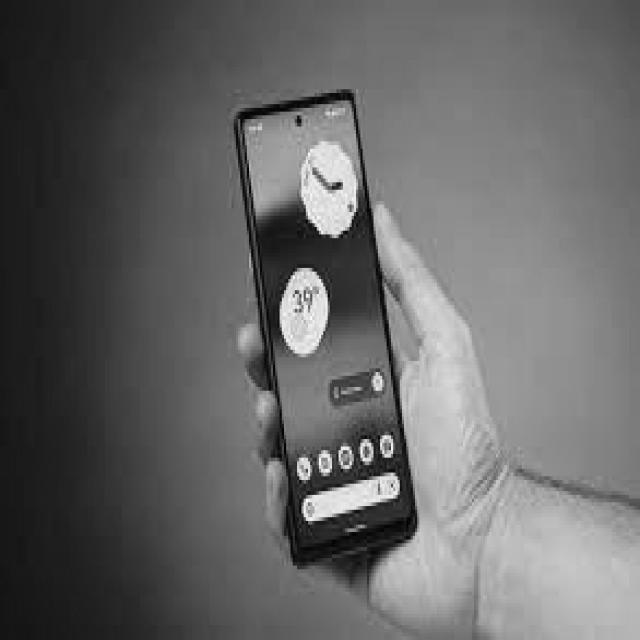No gun_phone: (238, 89, 418, 562)
